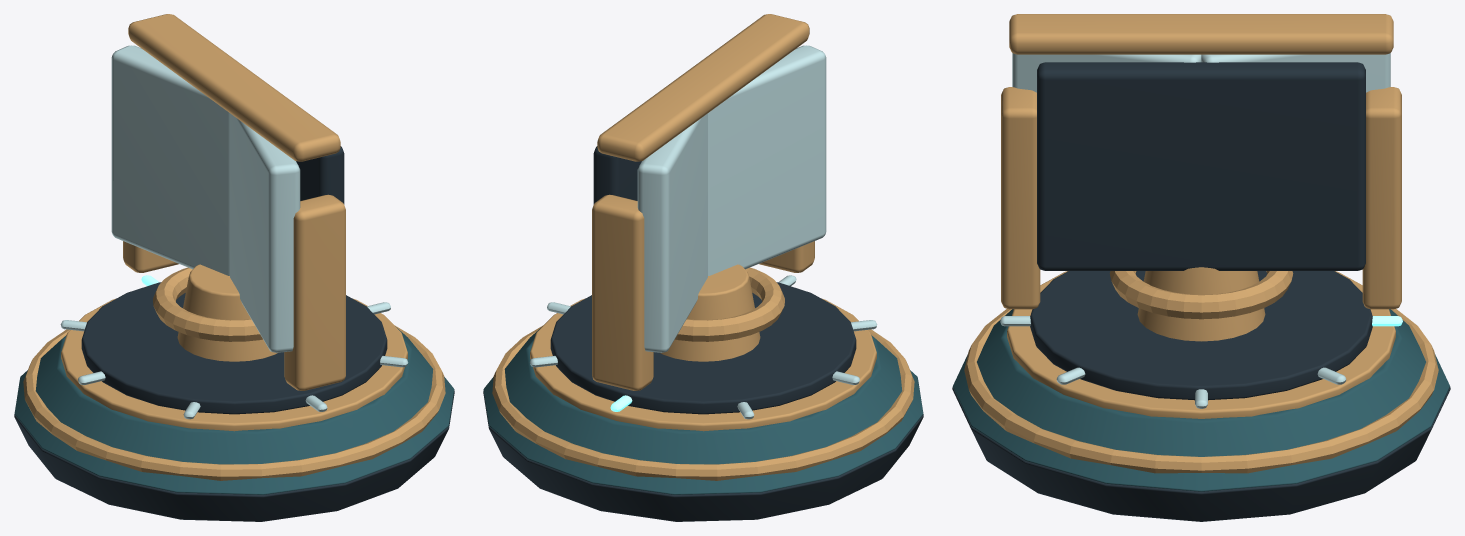
File: bender.glb
3 renders of one model, left to right at view 1: azimuth 30°, elevation 25°; view 2: azimuth 150°, elevation 25°; view 3: azimuth 270°, elevation 25°, orthographic. The views are drawn at different scales.
Visible parts, largest first — view 1: bender; view 2: bender; view 3: bender.
Part boxes in pixels (x1=…): bender: x1=14, y1=14, x2=454, y2=521; bender: x1=483, y1=14, x2=923, y2=521; bender: x1=952, y1=14, x2=1450, y2=521.
Size of the model in its own units: 1.08 by 0.956 by 1.08.
